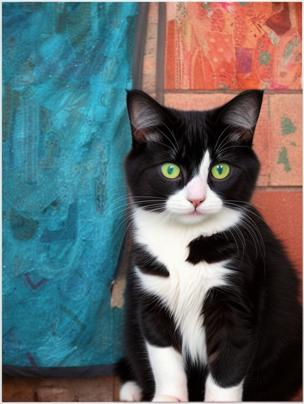cat: (113, 89, 304, 401)
